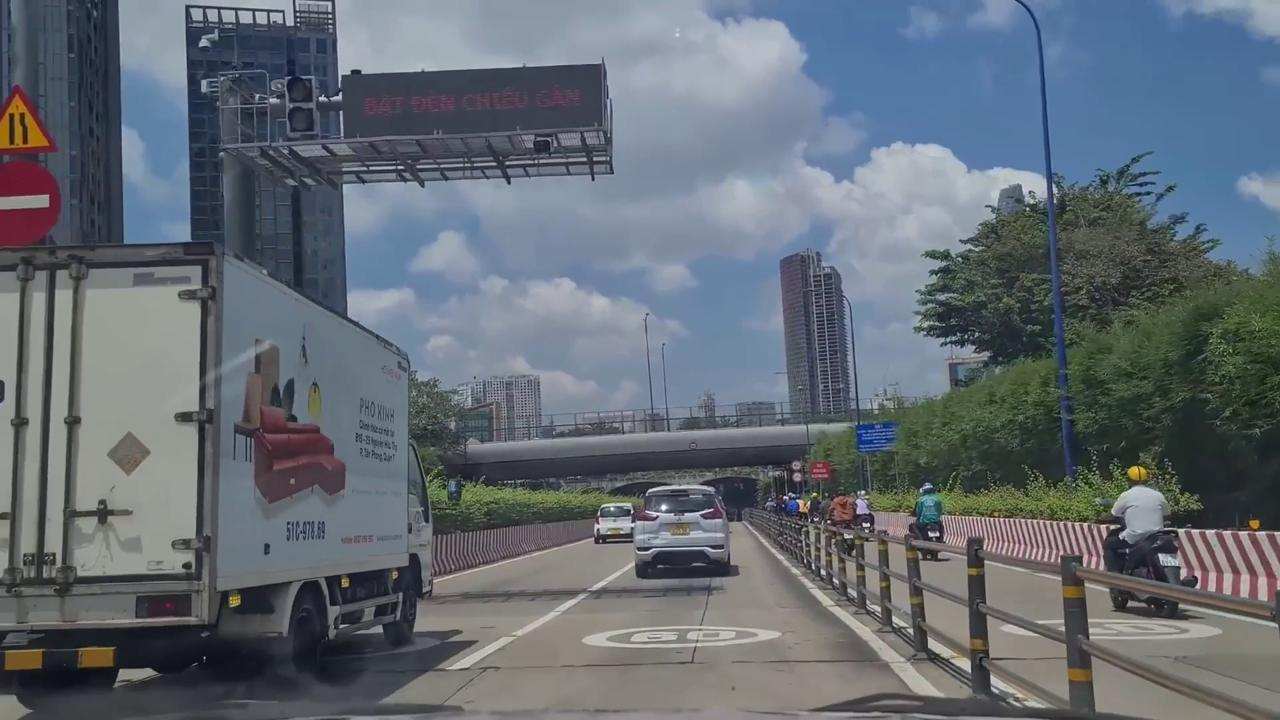Cấm đi ngược chiều: (0, 154, 65, 253)
Đuờng hẹp: (0, 84, 61, 155)
